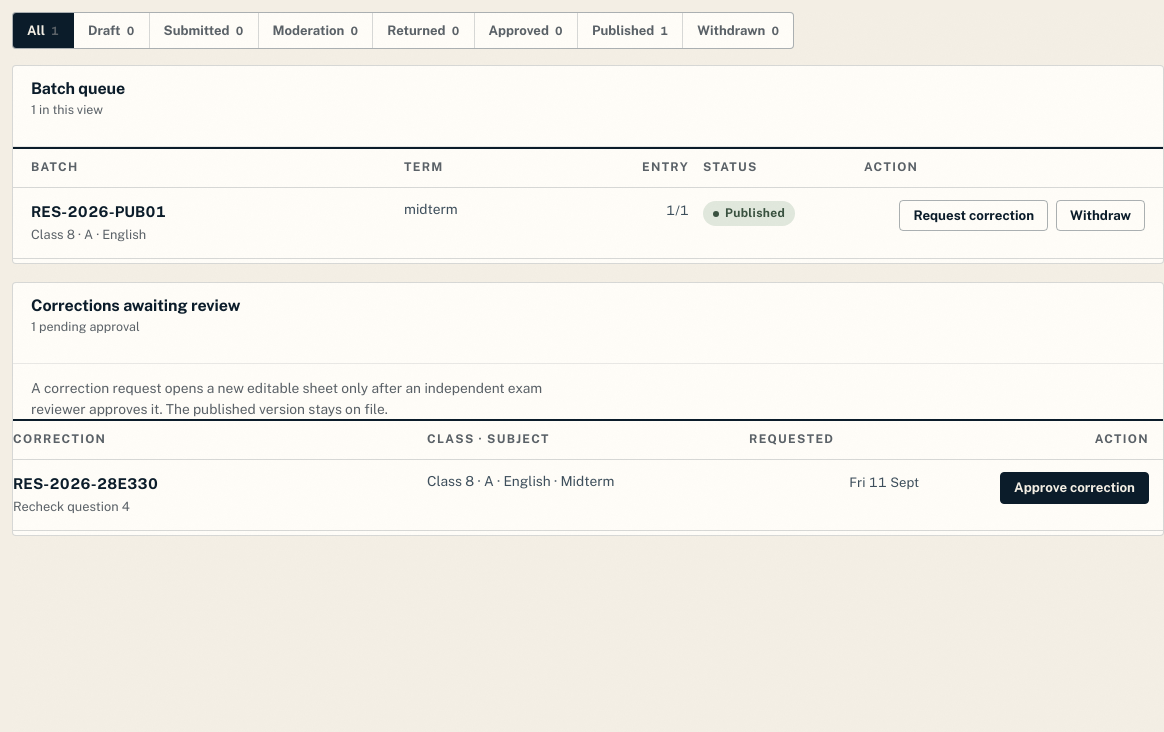
Test: correction approval review queue › shows pending corrections to a reviewer and opens the new sheet on approval
Expected: the heading "Corrections awaiting review" is shown, [31,297,240,315]
Expected: the text "Recheck question 4" is shown, [13,499,130,514]
Click the button "Approve correction". click: (1075, 488)
box: [1000,472,1149,504]
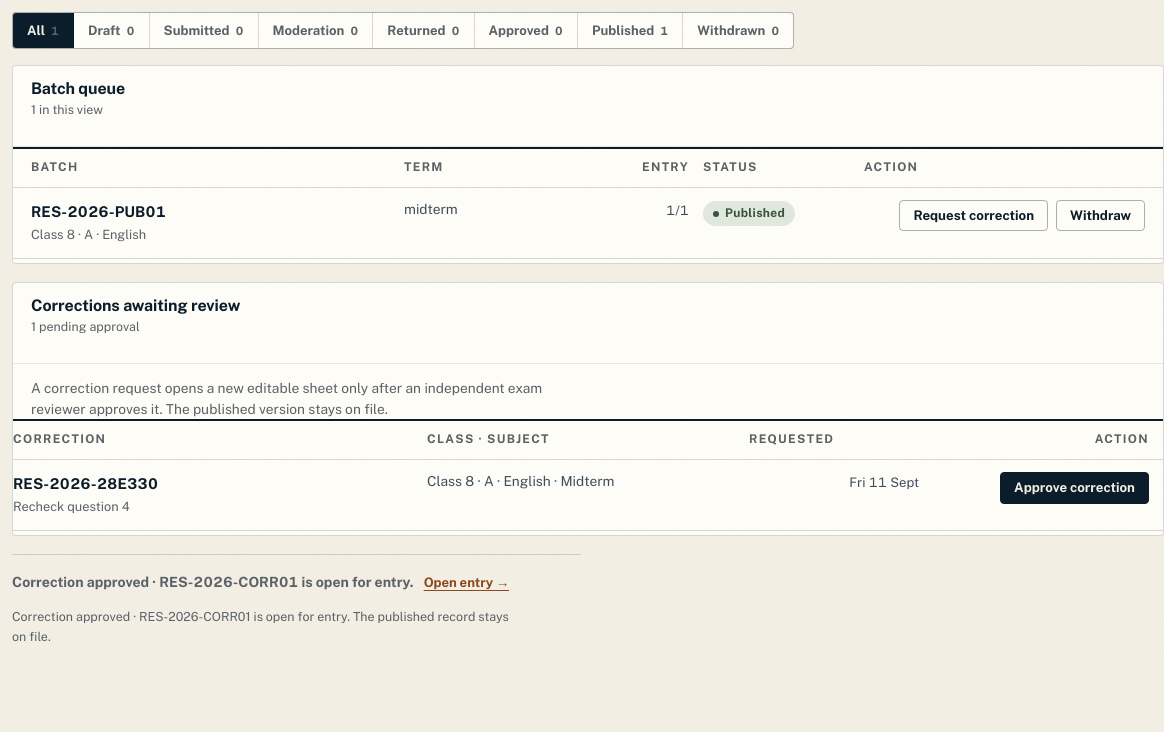
Now the text "RES-2026-CORR01" is shown, box [159,574,298,590]
